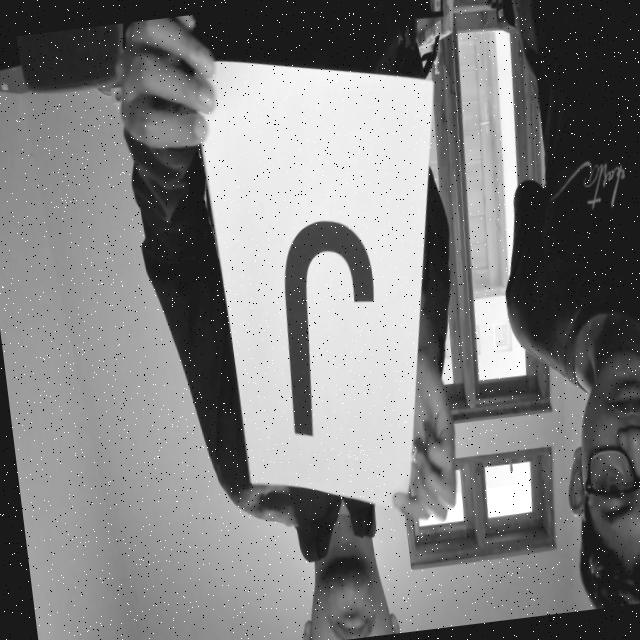j: (237, 184, 408, 478)
